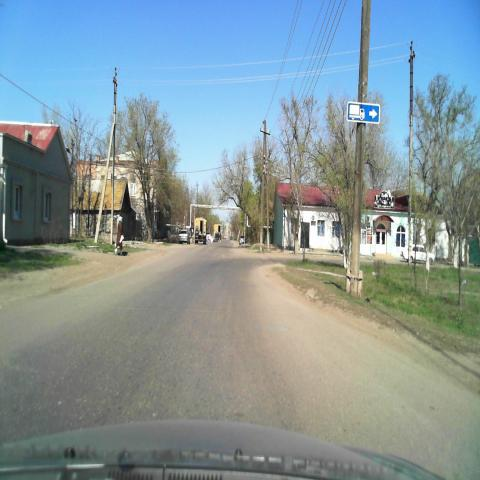6_15_2: (347, 101, 380, 124)
